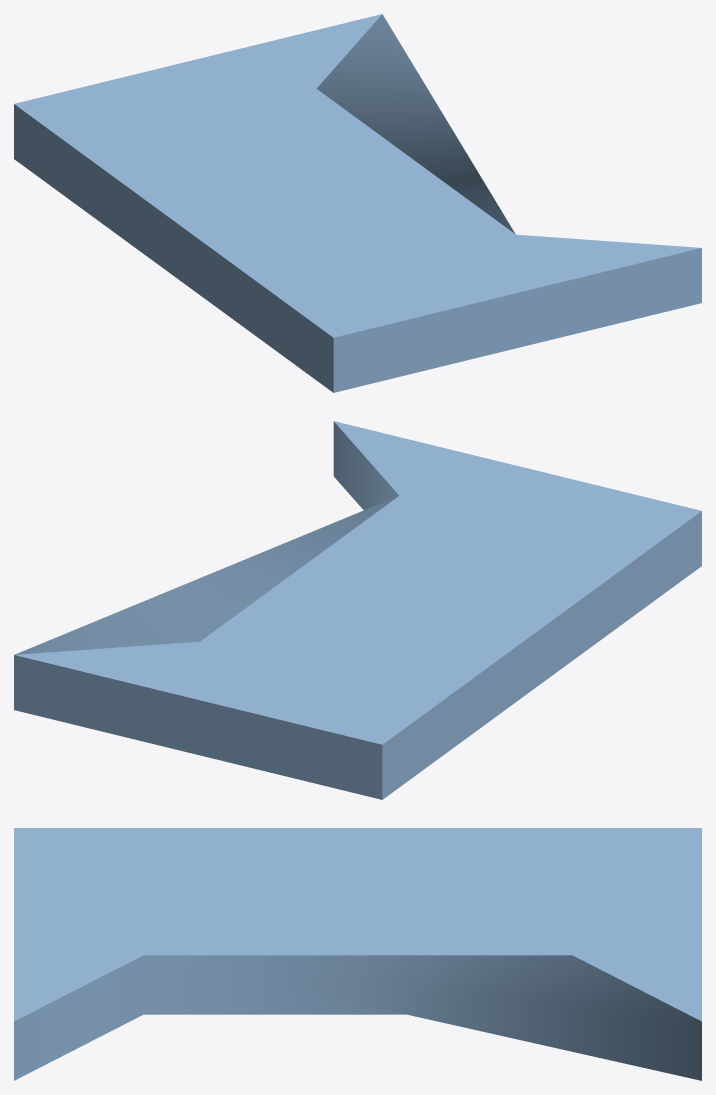
Rendered from narrowRoad230.fbx.
3 views of the same model, one above another, from view 1: azimuth 30°, elevation 25°; view 2: azimuth 150°, elevation 25°; view 3: azimuth 270°, elevation 25° (orthographic). The views are drawn at different scales.
Parts seen in each view (by area): view 1: narrowRoad; view 2: narrowRoad; view 3: narrowRoad.
Boxes of the visible parts, left/top/right/bottom form: narrowRoad: left=14, top=14, right=701, bottom=392; narrowRoad: left=14, top=421, right=701, bottom=799; narrowRoad: left=14, top=828, right=701, bottom=1080.
Size of the model in its own units: 349 by 50 by 525.
